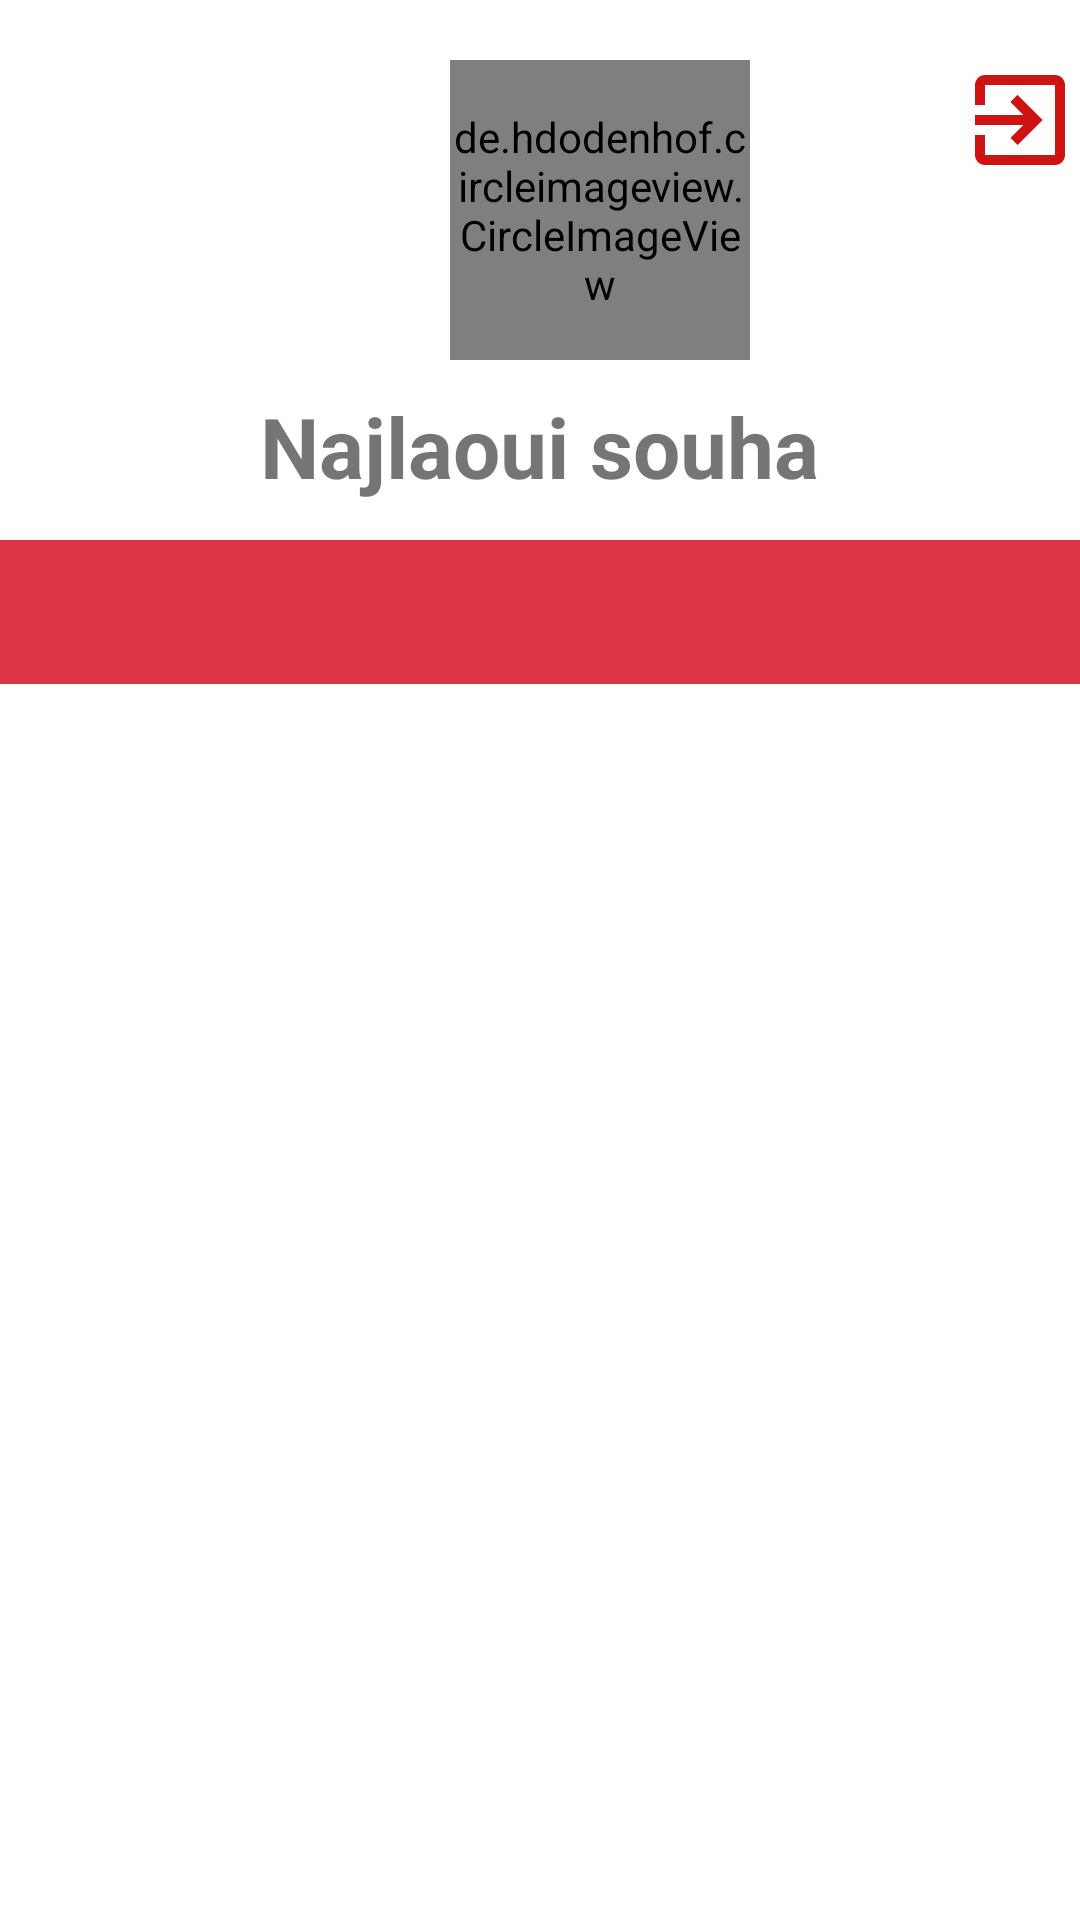

Point at icon controls on the screen. Image size 1080px×1920px, points as (x,y).
exit: (1020,120)
